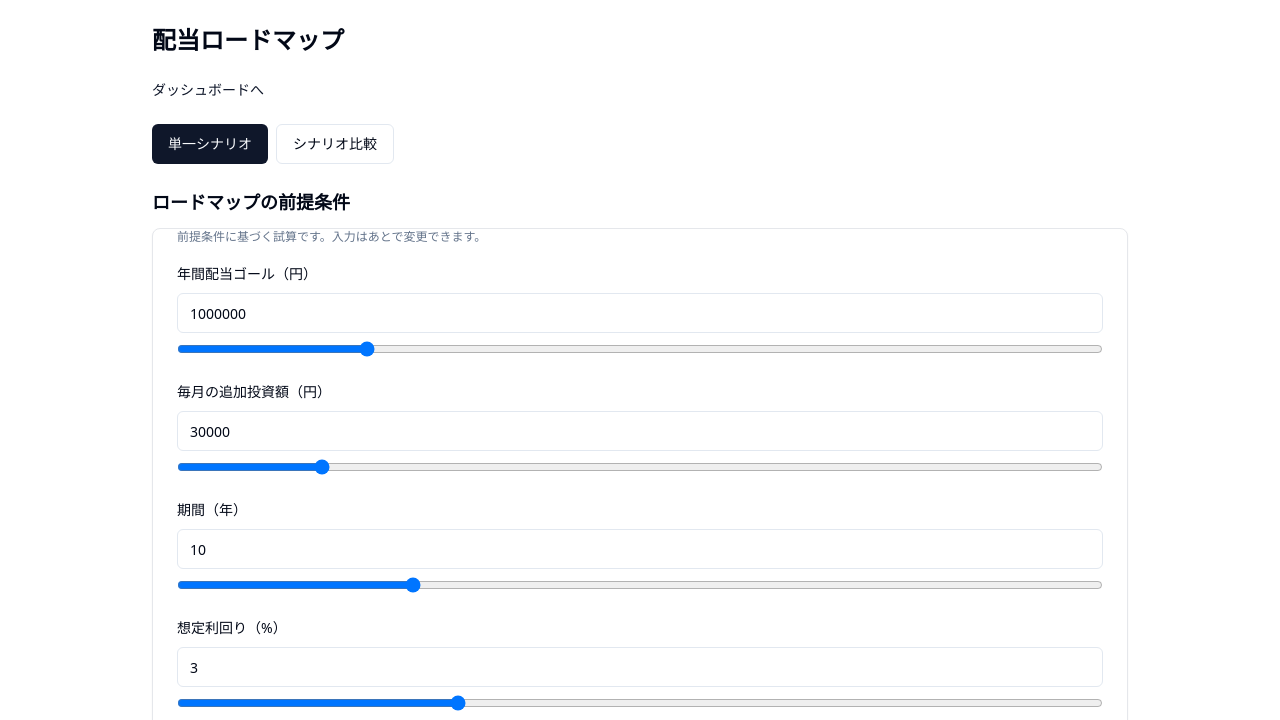
Test case: RoadmapPage compare flow › 比較表示に切り替えると見出しと注意文を表示する
Click the button "シナリオ比較" at [335, 144], box x1=276 y1=124 x2=394 y2=164
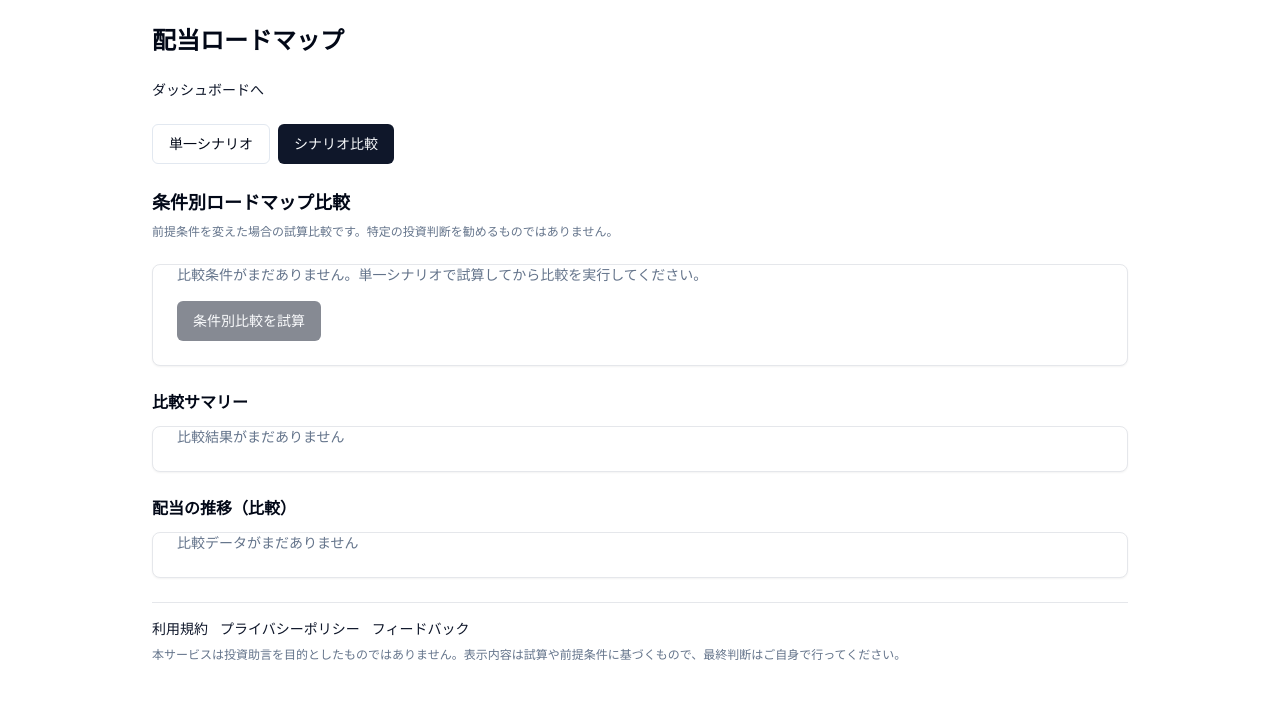
Now the heading "条件別ロードマップ比較" is shown, box x1=152 y1=190 x2=350 y2=214
Now the text "前提条件を変えた場合の試算比較です。特定の投資判断を勧めるものではありません。" is shown, box x1=152 y1=223 x2=618 y2=240
